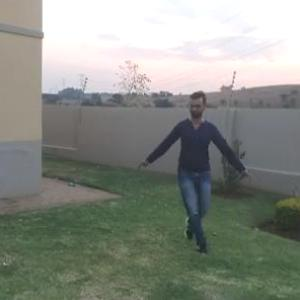land: (144, 82, 253, 258)
